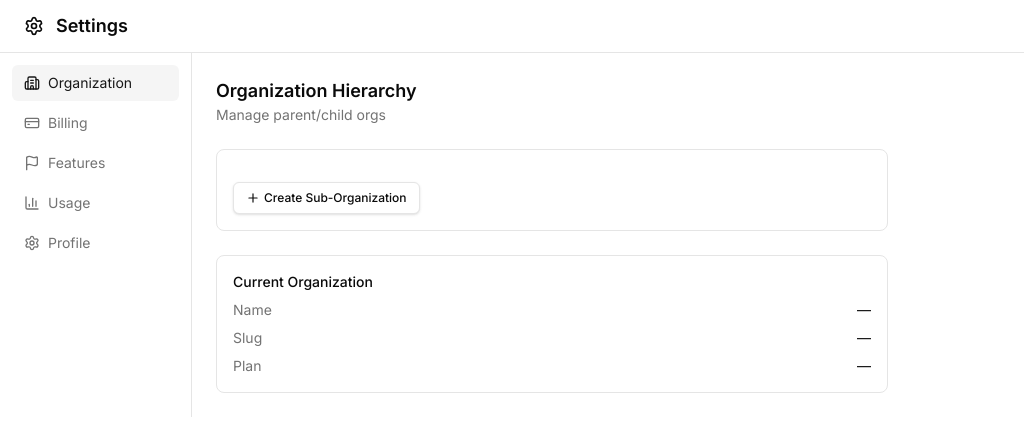
SettingsPage › switches to usage tab
The image size is (1024, 434).
Click the button "Usage".
click(96, 203)  # box [12, 185, 179, 221]
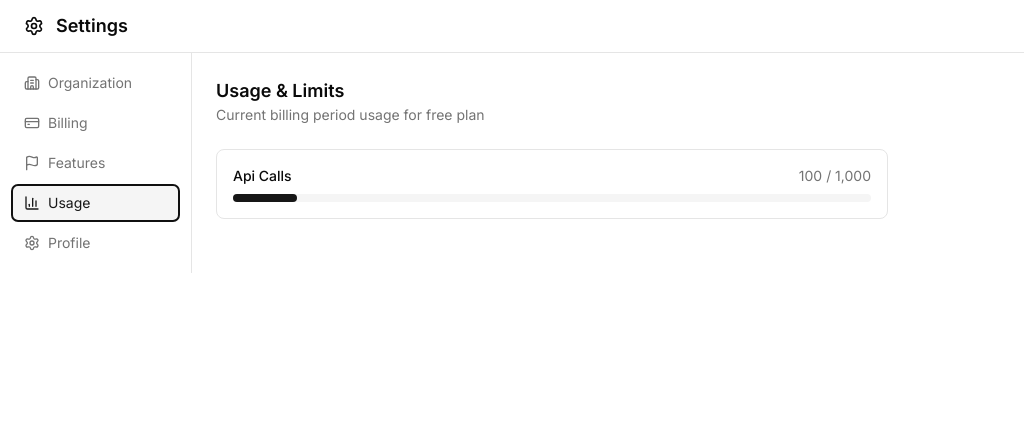
Check: the heading "Usage & Limits" is shown, box [216, 80, 344, 101]
